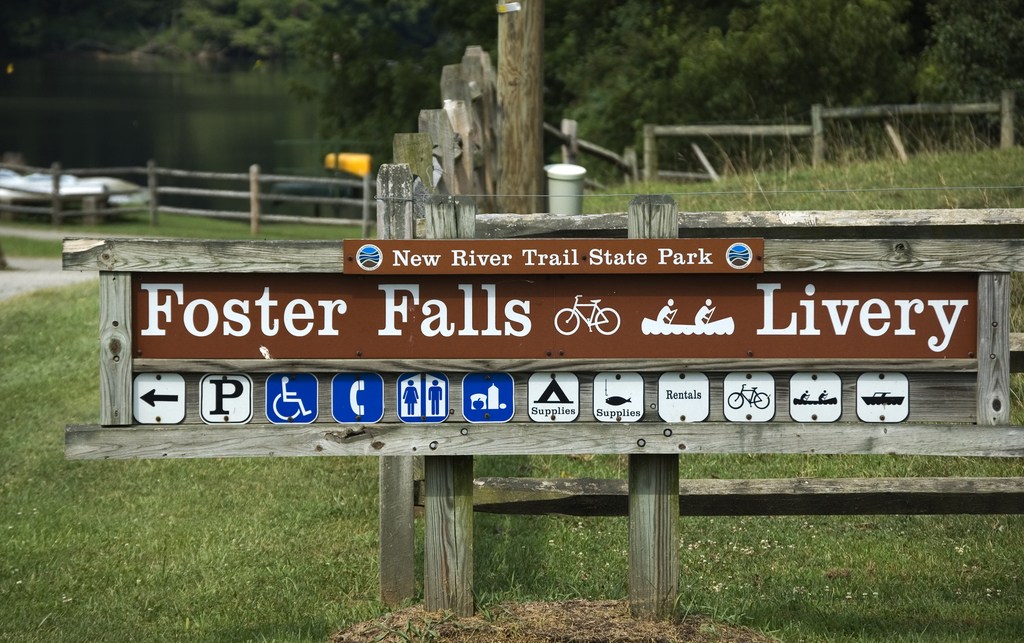cycle_sign: (551, 289, 624, 341), (724, 371, 775, 421)
parking: (201, 375, 252, 424)
telephone: (332, 375, 381, 422)
toilet_unisex: (397, 371, 450, 420)
wheel_chair_accessible: (266, 372, 317, 423)
